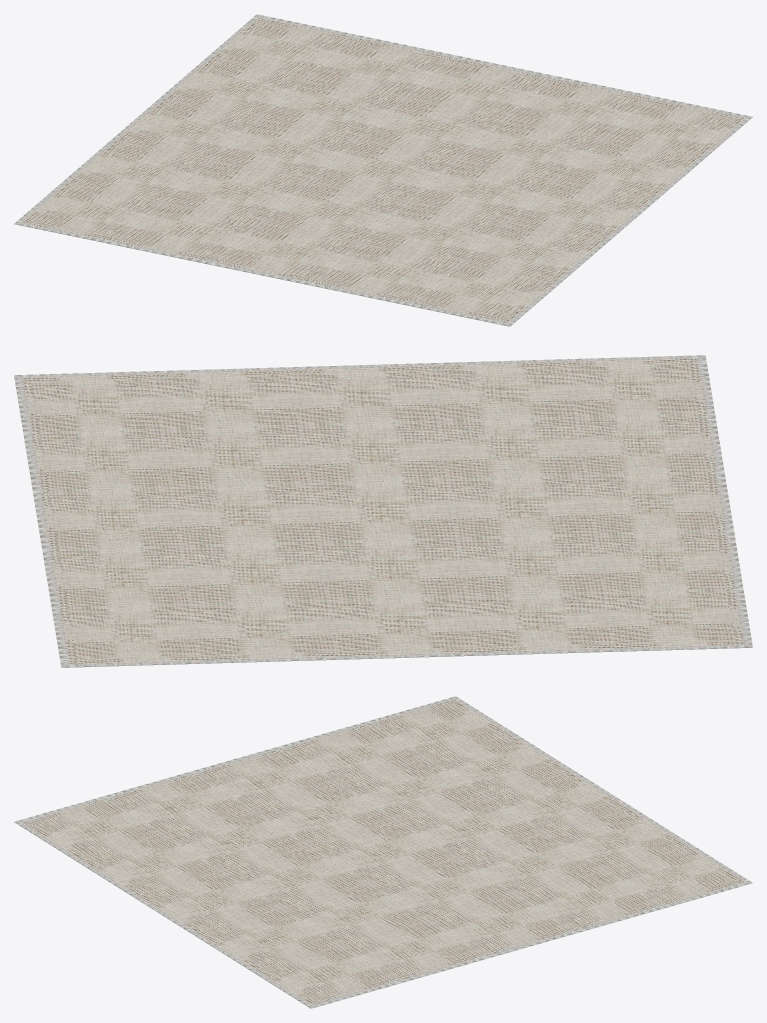
3 views of the same model, one above another, from view 1: azimuth 30°, elevation 25°; view 2: azimuth 150°, elevation 25°; view 3: azimuth 270°, elevation 25° (orthographic). The views are drawn at different scales.
Visible parts, largest first — view 1: Joint_0_Object_0; view 2: Joint_0_Object_0; view 3: Joint_0_Object_0.
Boxes of the visible parts, x1=… form: Joint_0_Object_0: x1=14, y1=14, x2=752, y2=326; Joint_0_Object_0: x1=14, y1=355, x2=752, y2=667; Joint_0_Object_0: x1=14, y1=696, x2=752, y2=1008.
Bounding box in the file's own units: 3775 × 1.51 × 3775.
Materials: 1 (1 with a texture image).
